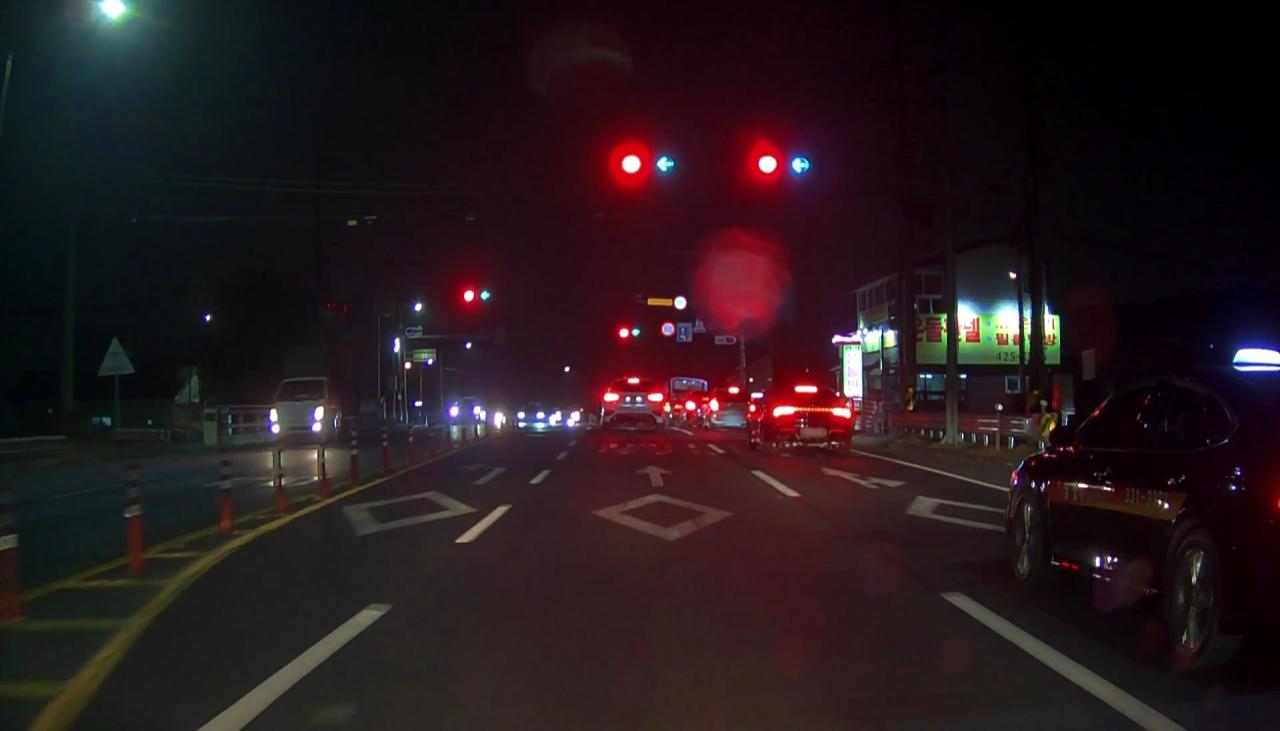Left turn: (654, 152, 678, 177), (790, 150, 811, 177), (480, 286, 492, 303), (631, 325, 642, 338)
Red Light: (619, 151, 644, 178), (758, 152, 782, 176), (463, 288, 478, 303), (618, 325, 630, 339)
